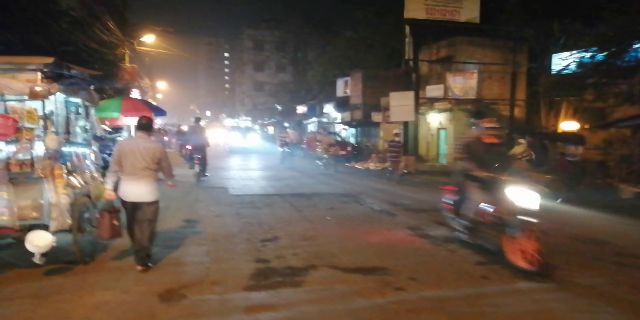Motorbike: (436, 115, 562, 276)
